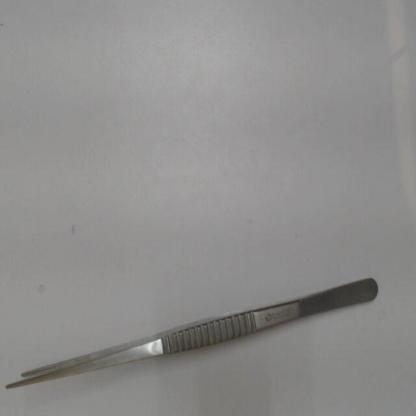DeBakey Dissector: (3, 250, 397, 396)
